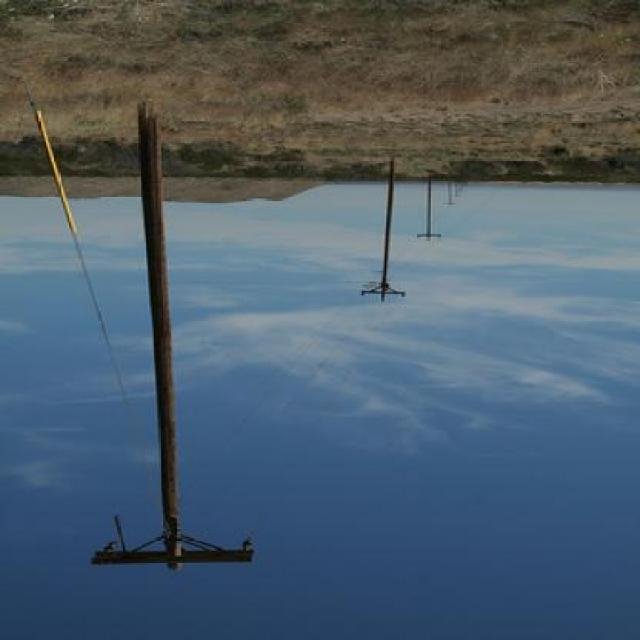pole: (82, 82, 272, 578), (350, 153, 416, 312), (412, 172, 439, 242)
